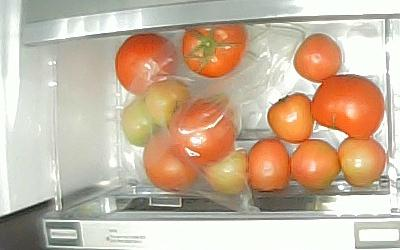tomato: (310, 75, 384, 138), (266, 91, 315, 143), (338, 137, 388, 187), (291, 140, 341, 190), (293, 34, 343, 82), (249, 140, 291, 191)
tomato_vinyl: (167, 97, 236, 164), (116, 33, 177, 96), (183, 22, 247, 78), (144, 133, 202, 192), (203, 149, 250, 195), (145, 79, 189, 126), (122, 100, 162, 146)
